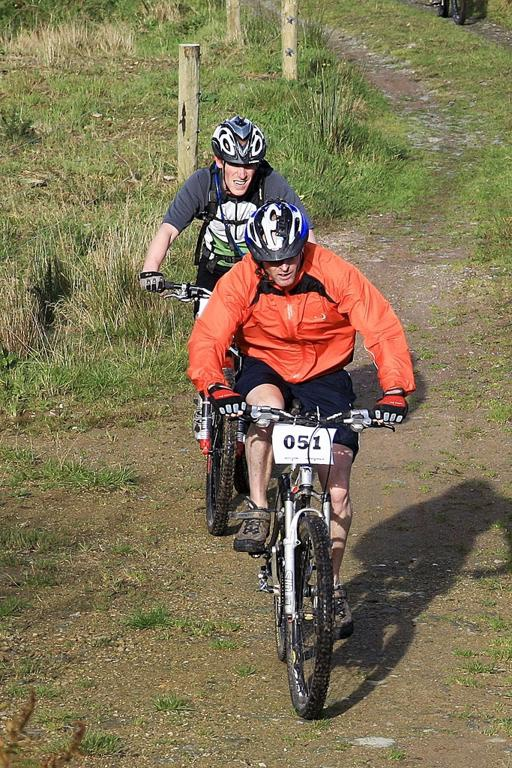non-vehicle: (218, 398, 394, 719), (153, 278, 241, 538), (424, 0, 466, 25)
